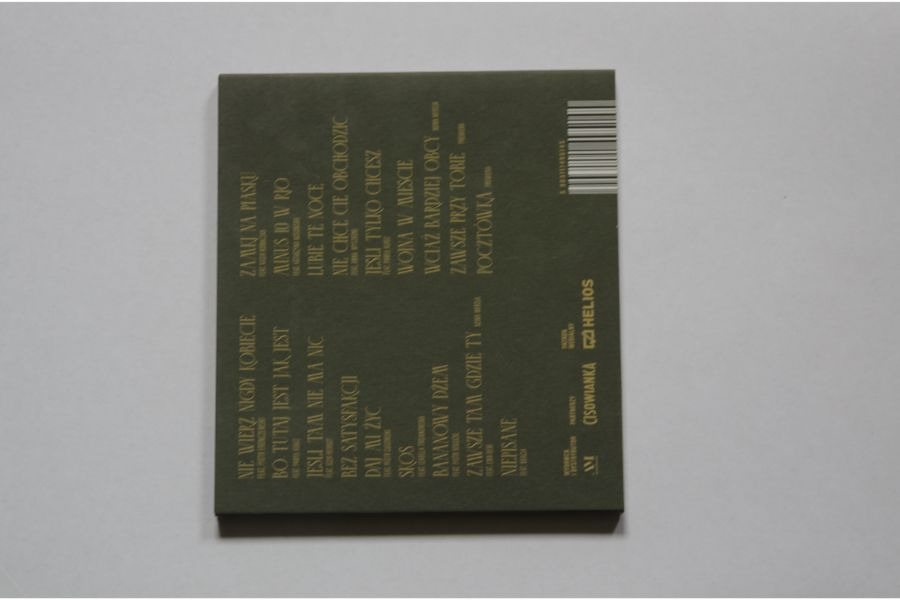album: (210, 73, 625, 514)
